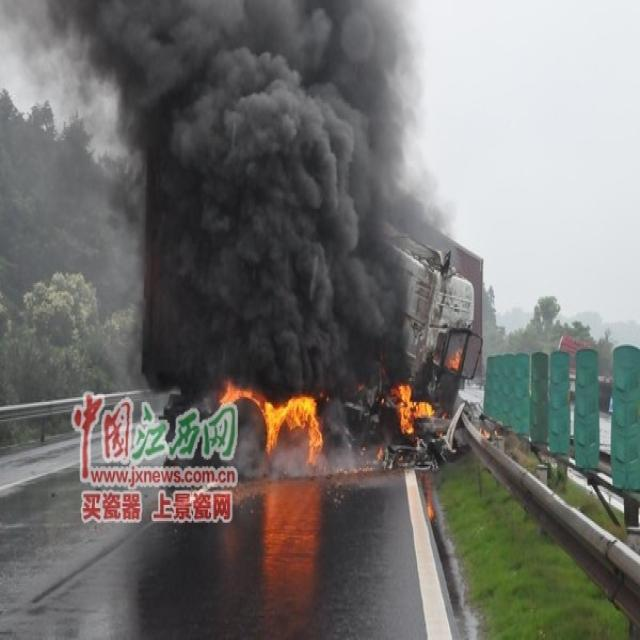Fire: (220, 380, 324, 464), (392, 381, 436, 434), (448, 348, 463, 372)
Smoke: (4, 1, 429, 384)
